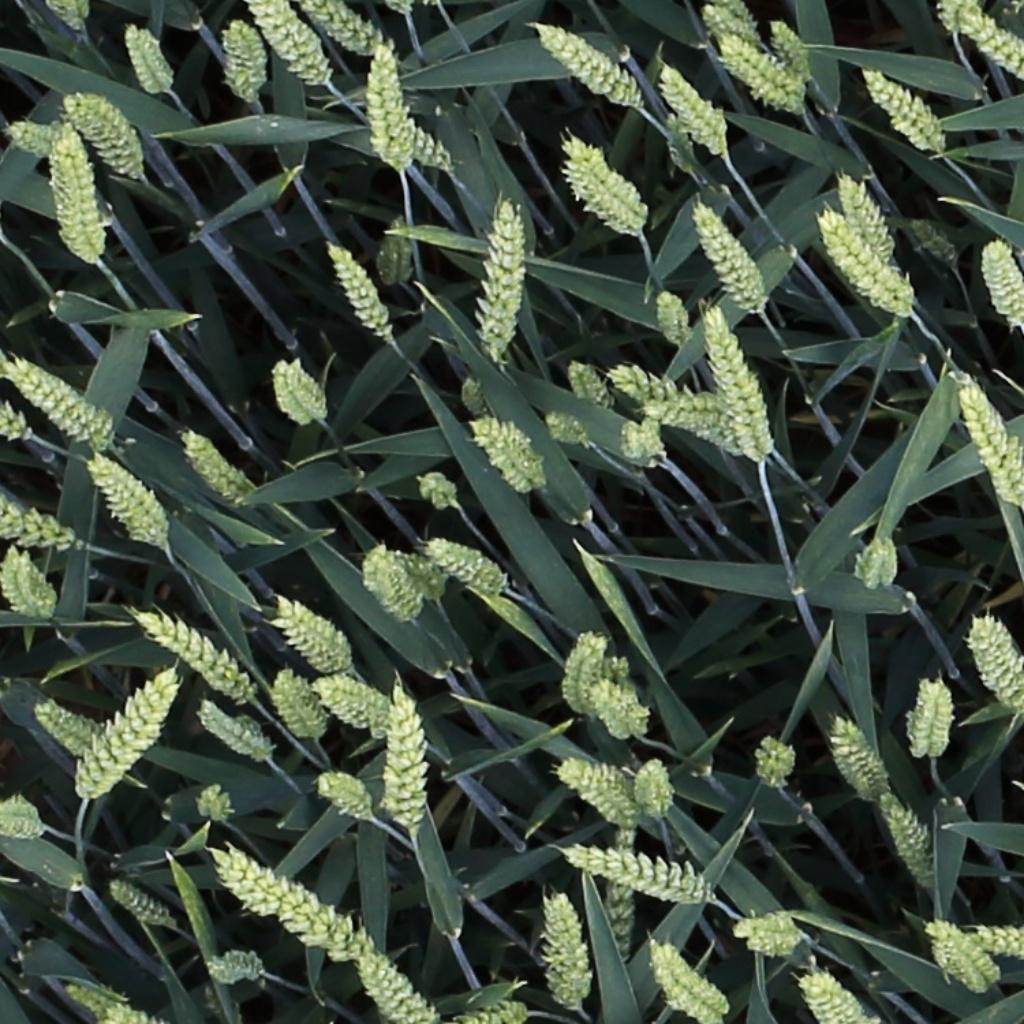0-0: (203, 842, 374, 961), (68, 666, 177, 802), (701, 301, 774, 460), (126, 608, 248, 701), (611, 367, 736, 450), (815, 211, 912, 315), (558, 133, 649, 239), (4, 357, 111, 447), (474, 195, 531, 360), (533, 23, 640, 109), (955, 375, 1024, 506), (559, 844, 711, 903), (47, 131, 111, 267), (690, 199, 765, 314), (62, 91, 148, 181), (320, 236, 393, 342), (655, 61, 735, 157), (861, 68, 946, 154), (84, 454, 165, 544), (248, 1, 328, 86), (385, 685, 432, 826), (270, 596, 360, 669), (716, 39, 804, 113), (352, 951, 439, 1024), (649, 944, 728, 1024), (176, 430, 252, 509), (969, 613, 1024, 720), (556, 757, 640, 826), (469, 420, 545, 496), (958, 8, 1024, 94), (834, 167, 895, 260), (877, 793, 935, 890), (544, 892, 593, 1005), (928, 920, 1002, 992), (193, 703, 275, 765), (830, 715, 886, 805), (264, 666, 325, 748), (118, 20, 178, 103), (368, 46, 406, 170), (360, 548, 419, 626), (303, 0, 385, 56), (1, 499, 87, 552), (221, 17, 271, 108), (267, 356, 330, 428), (2, 544, 59, 622), (423, 539, 505, 593), (978, 238, 1024, 329), (907, 673, 955, 759), (585, 681, 652, 741), (563, 630, 607, 720), (317, 672, 384, 729), (729, 909, 806, 958), (767, 13, 816, 84), (562, 352, 614, 417), (905, 212, 961, 271), (105, 880, 172, 929), (32, 704, 96, 753), (800, 973, 861, 1024), (372, 550, 443, 593), (313, 769, 373, 816), (647, 395, 737, 424), (659, 103, 696, 173), (700, 4, 759, 47), (858, 526, 895, 594), (753, 733, 793, 795), (201, 950, 265, 988), (606, 872, 632, 965), (636, 755, 677, 813), (653, 283, 686, 352), (406, 124, 451, 174), (454, 368, 490, 428), (0, 796, 45, 839), (6, 121, 58, 158), (195, 780, 237, 825), (623, 416, 658, 469), (419, 466, 458, 511), (460, 1002, 527, 1024), (47, 0, 92, 32), (978, 926, 1023, 957), (542, 412, 588, 442), (939, 0, 965, 43)
